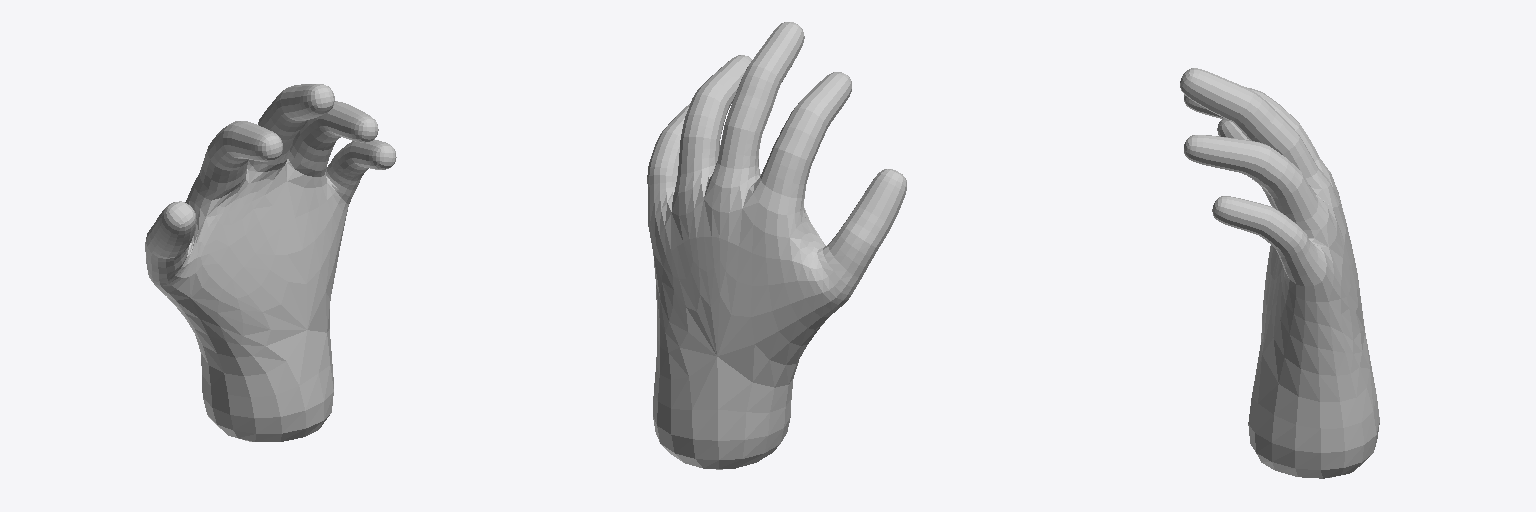
The model's file is handanimatsion18.obj.
The picture shows the model from 3 angles: view 1: azimuth 30°, elevation 25°; view 2: azimuth 150°, elevation 25°; view 3: azimuth 270°, elevation 25°; orthographic projection.
Parts seen in each view (by area): view 1: Cube; view 2: Cube; view 3: Cube.
Boxes of the visible parts, x1,y1,x2,y2 form: Cube: [145, 84, 396, 441]; Cube: [647, 22, 906, 469]; Cube: [1180, 68, 1379, 478].
Bounding box in the file's own units: 3.56 × 5.82 × 2.68.